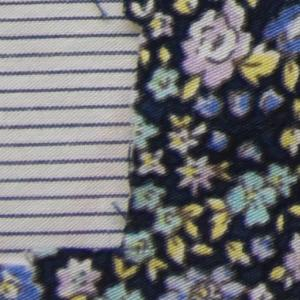Damage: (1, 1, 156, 276)
